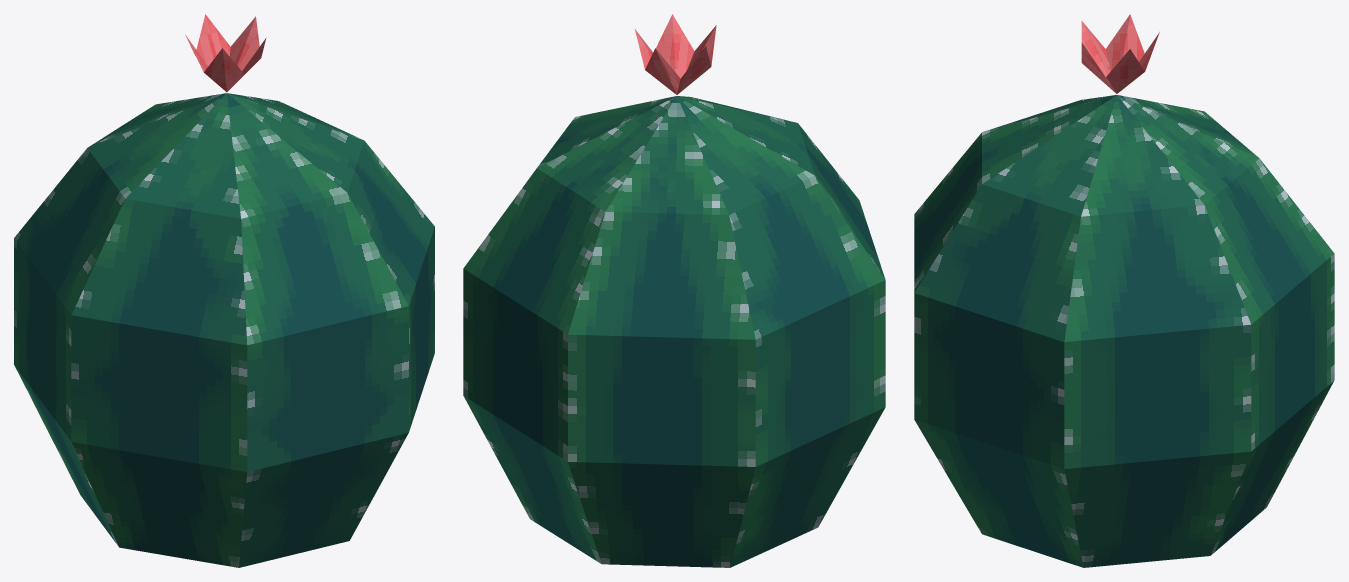
Rendered from Cactus3.gltf.
3 renders of one model, left to right at view 1: azimuth 30°, elevation 25°; view 2: azimuth 150°, elevation 25°; view 3: azimuth 270°, elevation 25°, orthographic.
Visible parts, largest first — view 1: cylinder, cone; view 2: cylinder, cone; view 3: cylinder, cone.
Boxes of the visible parts, left/top/right/bottom form: cylinder: left=14, top=93, right=434, bottom=567; cone: left=185, top=14, right=266, bottom=92; cylinder: left=463, top=96, right=885, bottom=567; cone: left=635, top=14, right=716, bottom=94; cylinder: left=914, top=95, right=1334, bottom=567; cone: left=1081, top=14, right=1159, bottom=93.
Size of the model in its own units: 0.75 by 0.9375 by 0.75.
Materials: 1 (1 with a texture image).
